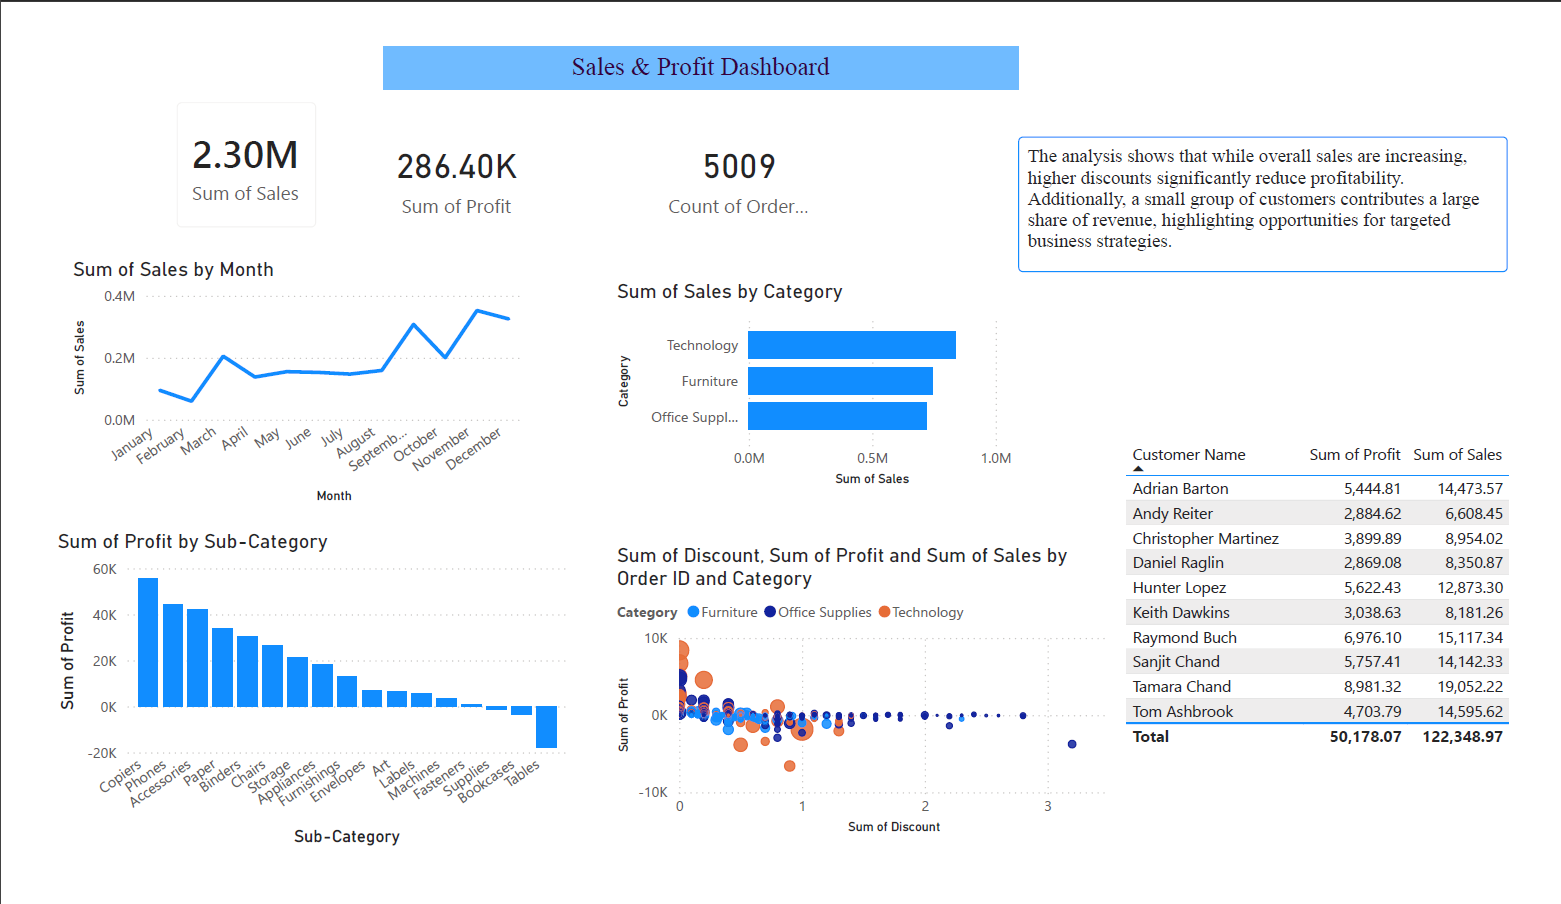

The dashboard page shown, as its layout file describes it:
{"tool":"powerbi","page":{"name":"Page 1","canvas":[1280,720],"ordinal":0},"visuals":[{"type":"clusteredColumnChart","fields":{"Y":["Sum(Sample - Superstore.Profit)"],"Category":["Sample - Superstore.Sub-Category"]},"box":[18.5,423.3,441.9,272.2],"z":0},{"type":"lineChart","fields":{"Y":["Sum(Sample - Superstore.Sales)"],"Category":["Sample - Superstore.Order Date.Variation.Date Hierarchy.Month"]},"box":[32,192,390,214],"z":1000},{"type":"scatterChart","fields":{"X":["Sum(Sample - Superstore.Discount)"],"Y":["Sum(Sample - Superstore.Profit)"],"Category":["Sample - Superstore.Order ID"],"Size":["Sum(Sample - Superstore.Sales)"],"Series":["Sample - Superstore.Category"]},"box":[493.2,434.7,430.5,250.9],"z":2000},{"type":"tableEx","fields":{"Values":["Sample - Superstore.Customer Name","Sum(Sample - Superstore.Profit)","Sum(Sample - Superstore.Sales)"]},"box":[924,344,344,280],"z":3000},{"type":"barChart","fields":{"Category":["Sample - Superstore.Category"],"Y":["Sum(Sample - Superstore.Sales)"]},"box":[493.2,211,344.9,179.6],"z":4000},{"type":"cardVisual","fields":{"Data":["Sum(Sample - Superstore.Sales)"]},"box":[108,44,152,140],"z":5000},{"type":"card","fields":{"Values":["Sum(Sample - Superstore.Profit)"]},"box":[302,64,120,120],"z":6000},{"type":"card","fields":{"Values":["Count(Sample - Superstore.Order ID)"]},"box":[536,64,130,120],"z":7000},{"type":"textbox","box":[838.1,89.8,414.8,115.5],"z":7001},{"type":"textbox","box":[300,14,538,36],"z":7002}]}

Visuals, with their boxes in screenshot pixels (x1, y1, x2, y2), scaled from the page's 1280x720 canvas onto the 1561x904 screenshot:
clusteredColumnChart - Sum(Sample - Superstore.Profit) x Sample - Superstore.Sub-Category: box=[23, 531, 561, 873]
lineChart - Sum(Sample - Superstore.Sales) x Sample - Superstore.Order Date.Variation.Date Hierarchy.Month: box=[39, 241, 515, 510]
scatterChart - Sum(Sample - Superstore.Discount) x Sum(Sample - Superstore.Profit): box=[601, 546, 1126, 861]
tableEx - Sample - Superstore.Customer Name x Sum(Sample - Superstore.Profit): box=[1127, 432, 1546, 783]
barChart - Sample - Superstore.Category x Sum(Sample - Superstore.Sales): box=[601, 265, 1022, 490]
cardVisual - Sum(Sample - Superstore.Sales): box=[132, 55, 317, 231]
card - Sum(Sample - Superstore.Profit): box=[368, 80, 515, 231]
card - Count(Sample - Superstore.Order ID): box=[654, 80, 812, 231]
textbox: box=[1022, 113, 1528, 258]
textbox: box=[366, 18, 1022, 63]
